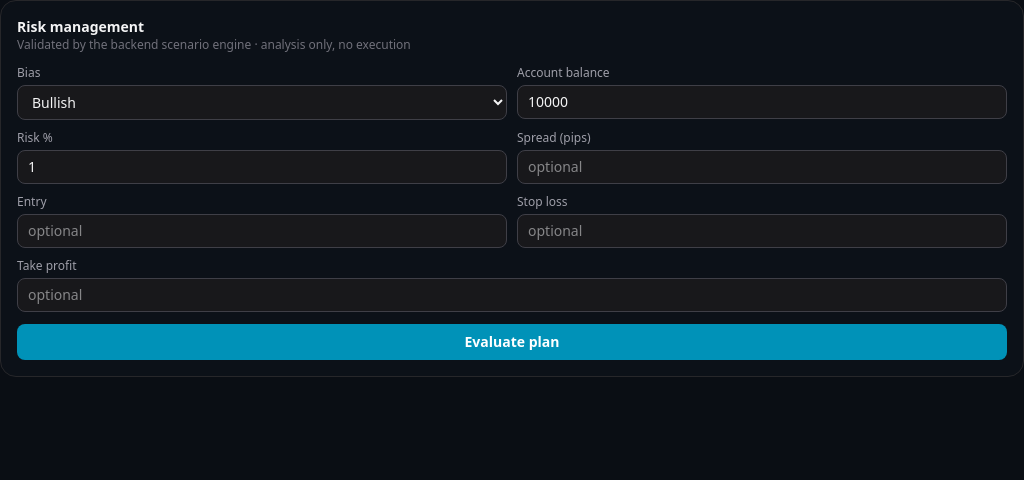
Test case: RiskPanel › shows backend 400 validation errors verbatim
The width and height of the screenshot is (1024, 480).
Click the button with test id "compute-plan" at (512, 342), box x1=17 y1=324 x2=1007 y2=360
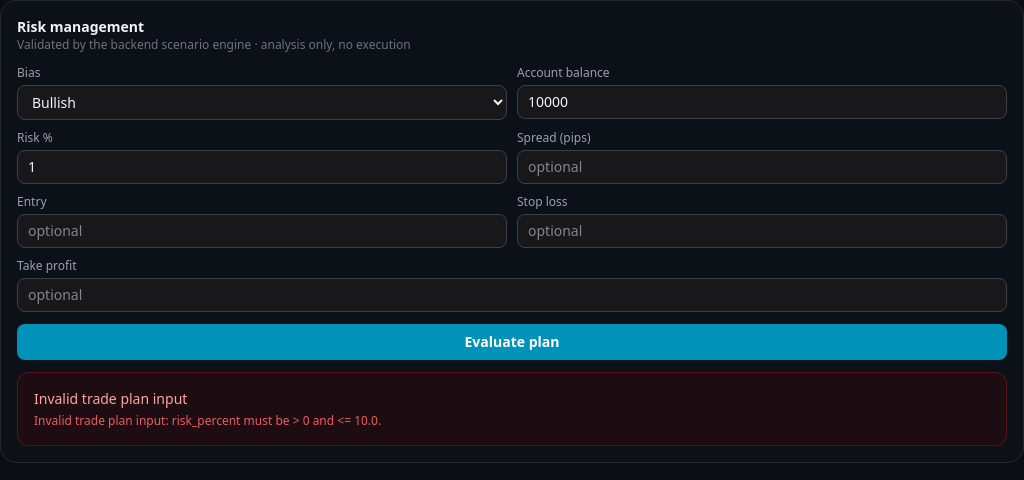
Now the message with test id "error-state" shows "risk_percent must be", box x1=34 y1=412 x2=381 y2=429
